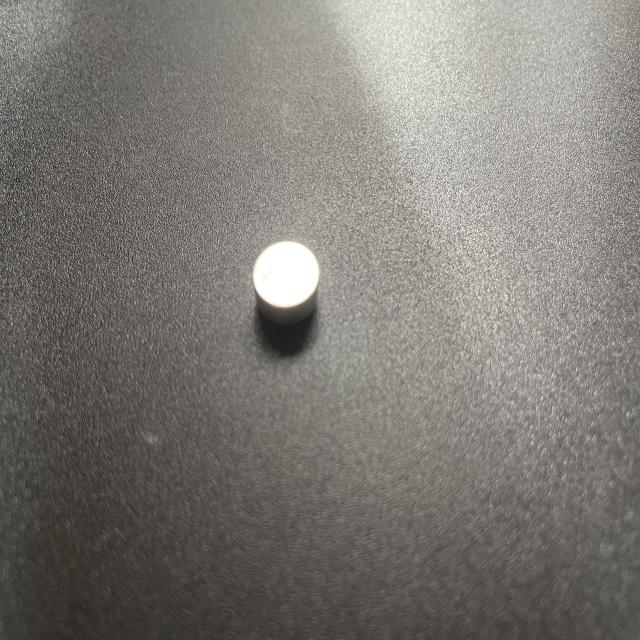COIN: (250, 237, 324, 326)
